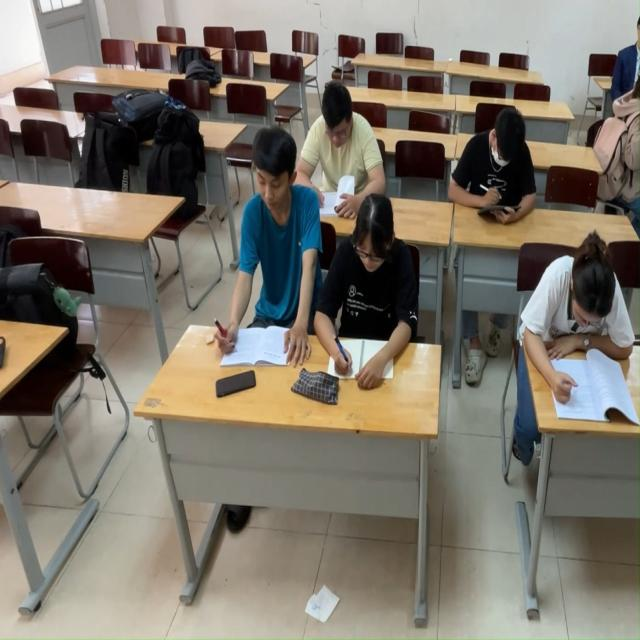read: (216, 119, 329, 383), (496, 226, 640, 426), (312, 171, 425, 395), (453, 106, 537, 234), (297, 91, 380, 209)
